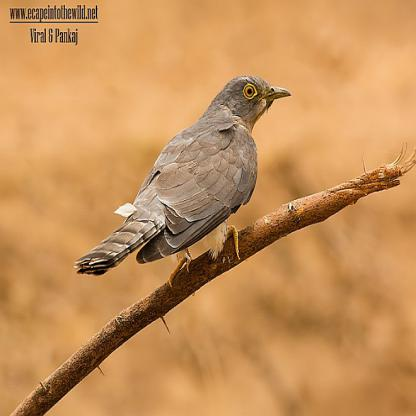Burung: (74, 76, 289, 286)
